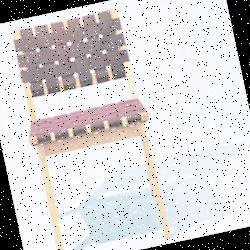Silla: (7, 4, 174, 249)
